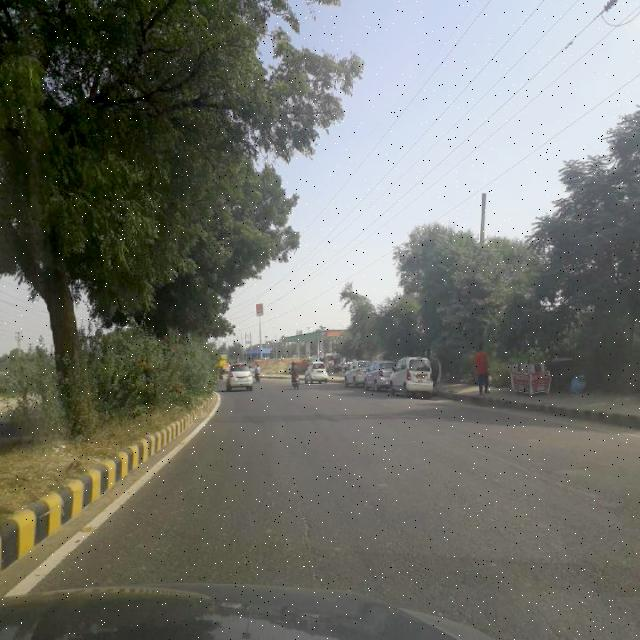D00: (286, 454, 330, 588)
D20: (150, 434, 639, 604)
